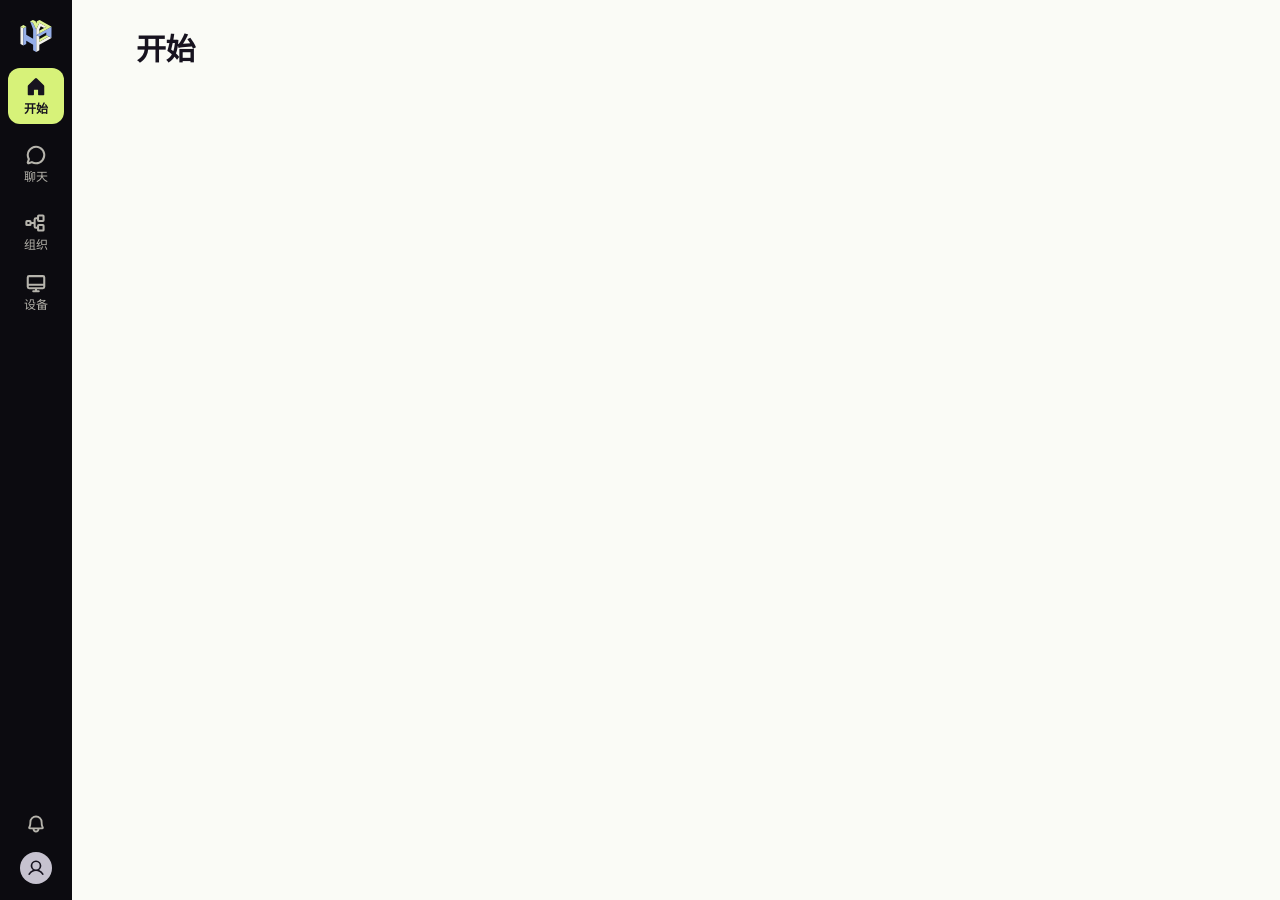
org page first read failure › clears the refresh failure notice after a later successful refresh
Click the button "组织". click: (36, 232)
box: [8,204,64,260]
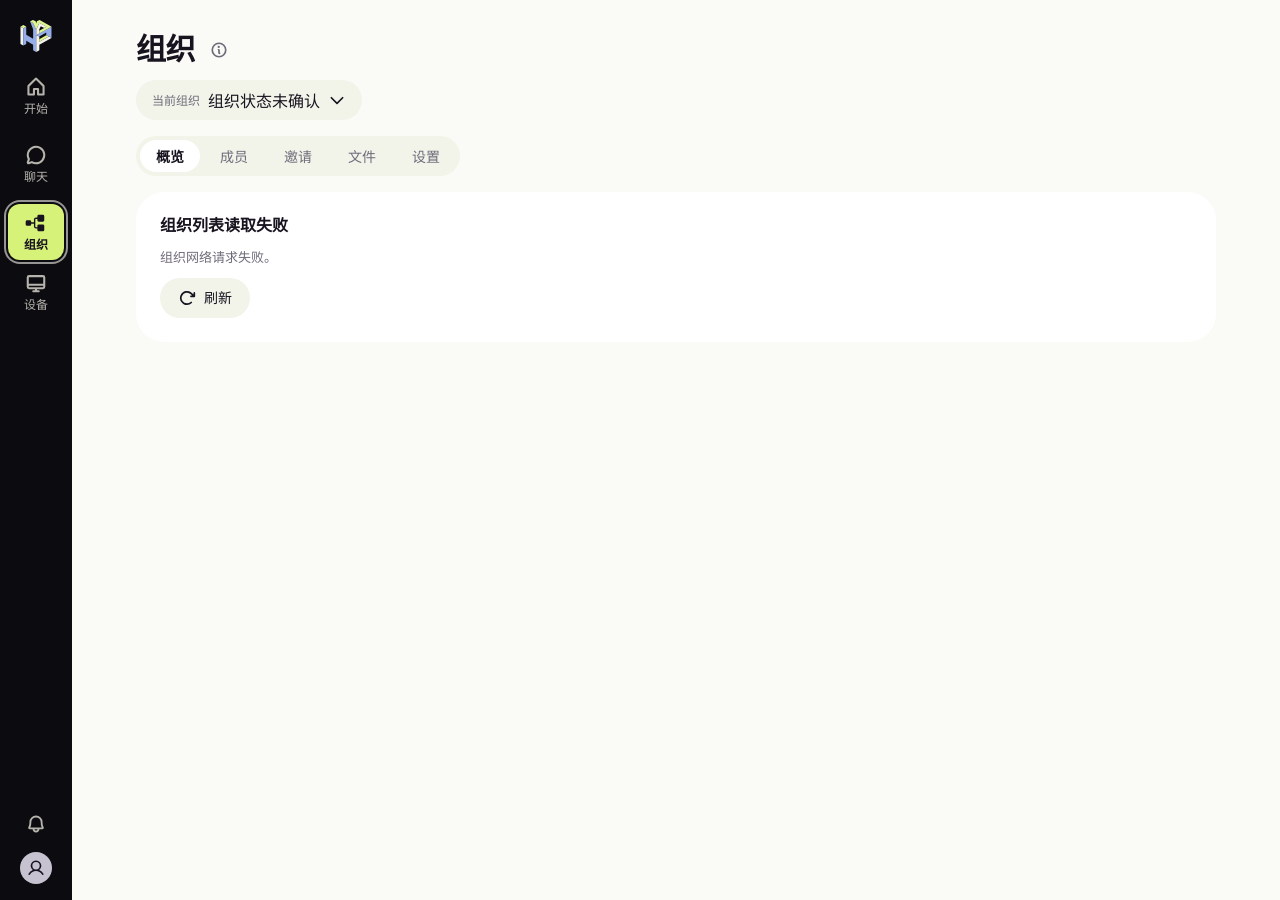
Expected: the text "组织列表读取失败" is shown, [160,216,288,235]
Click the button "刷新". click: (205, 298)
box: [160,278,250,318]
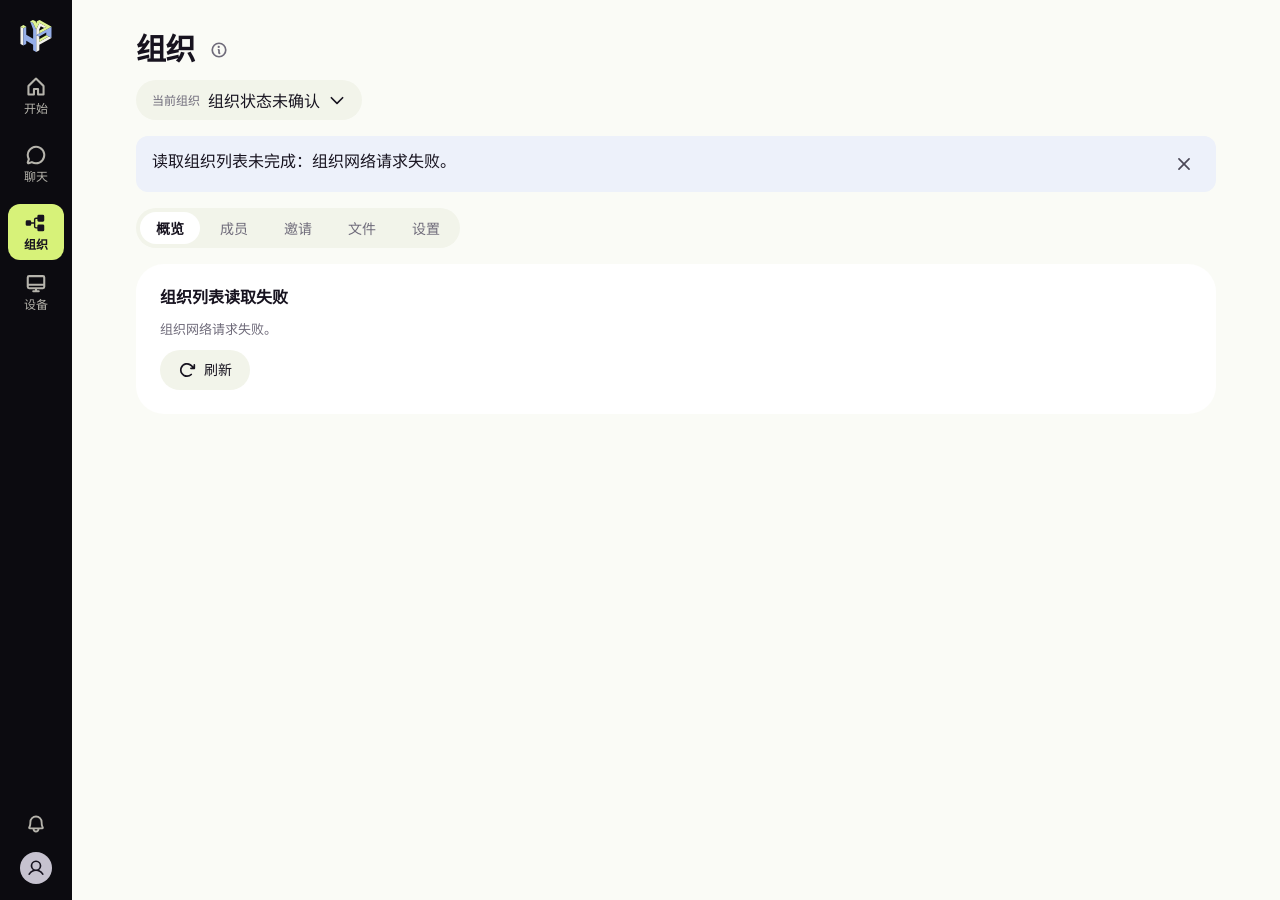
Click the button "刷新". click: (205, 370)
box: [160,350,250,390]
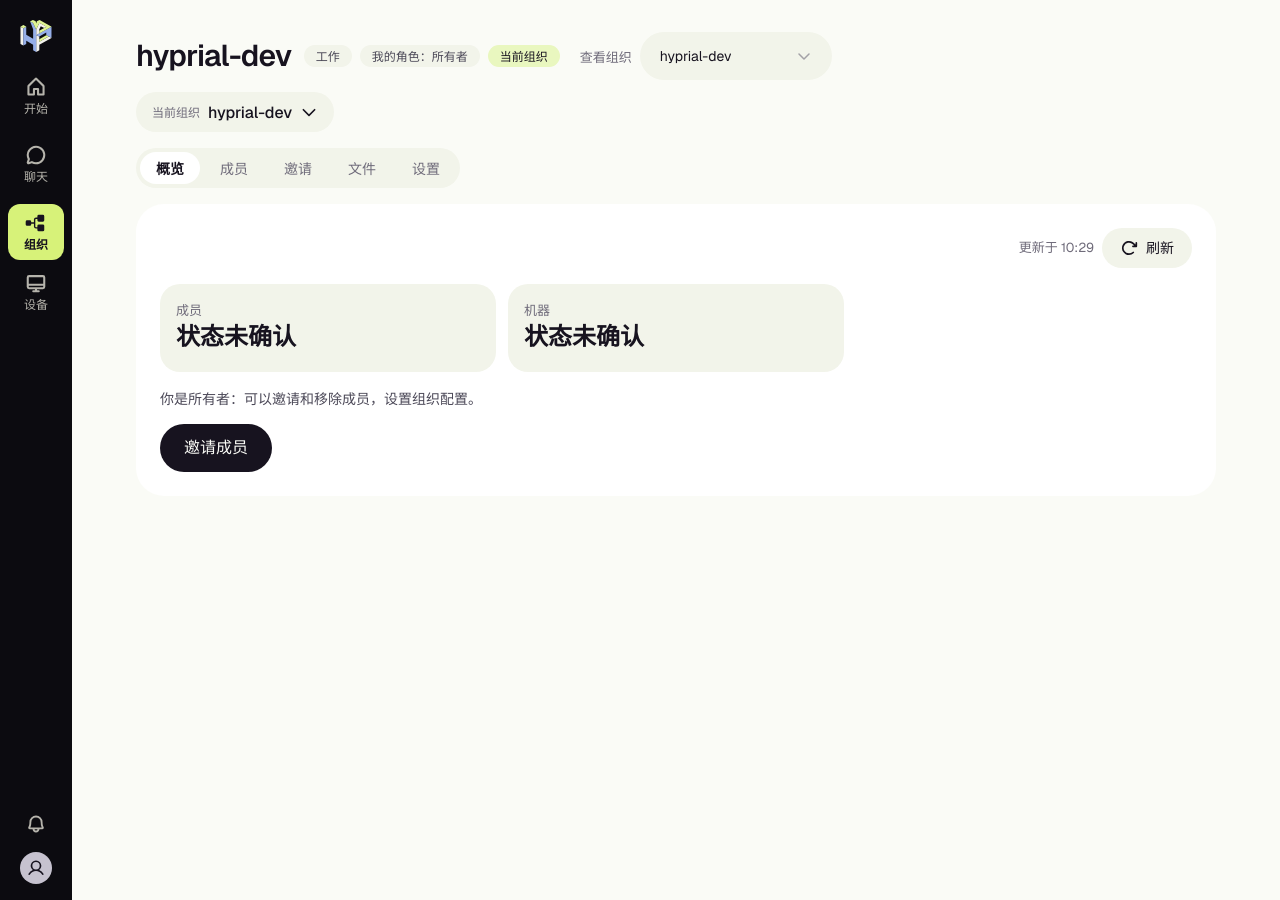
Expected: the heading "hyprial-dev" is shown, [136,38,292,74]
